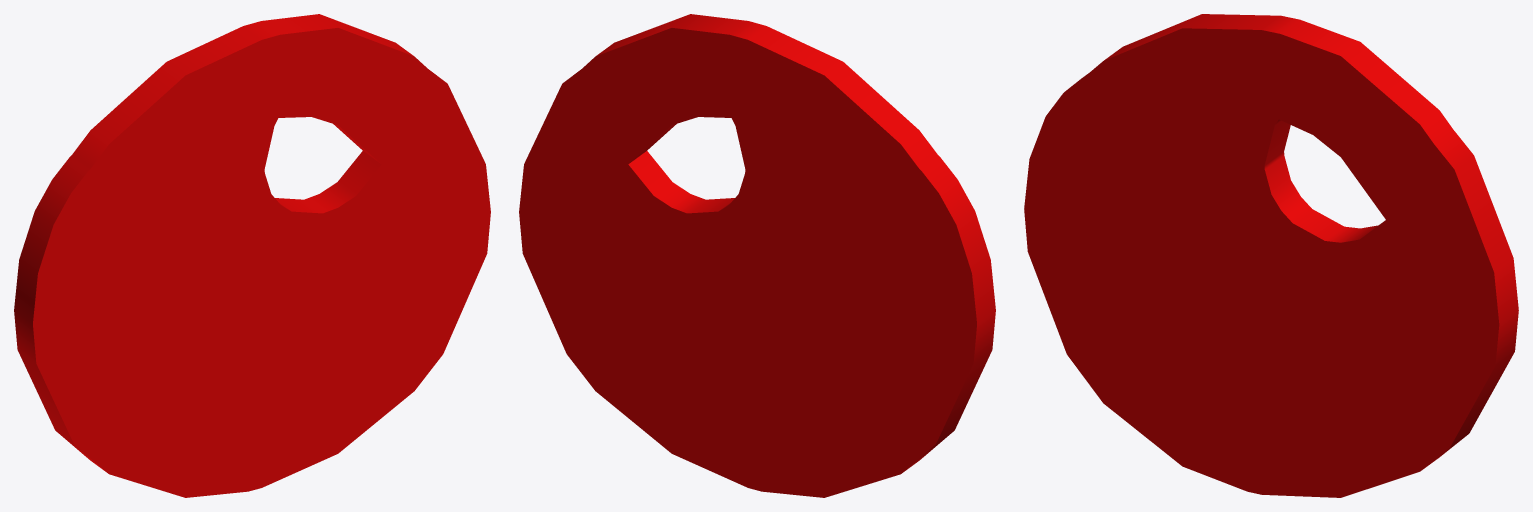
3 views of the same model, side by side, from view 1: azimuth 30°, elevation 25°; view 2: azimuth 150°, elevation 25°; view 3: azimuth 330°, elevation 25° (orthographic). The views are drawn at different scales.
Visible parts, largest first — view 1: Trim_Char_x_1_1; view 2: Trim_Char_x_1_1; view 3: Trim_Char_x_1_1.
Boxes of the visible parts, left/top/right/bottom form: Trim_Char_x_1_1: left=14, top=14, right=490, bottom=497; Trim_Char_x_1_1: left=519, top=14, right=995, bottom=497; Trim_Char_x_1_1: left=1024, top=14, right=1518, bottom=497.
Bounding box in the file's own units: 0.7845 × 0.7348 × 0.0558.
